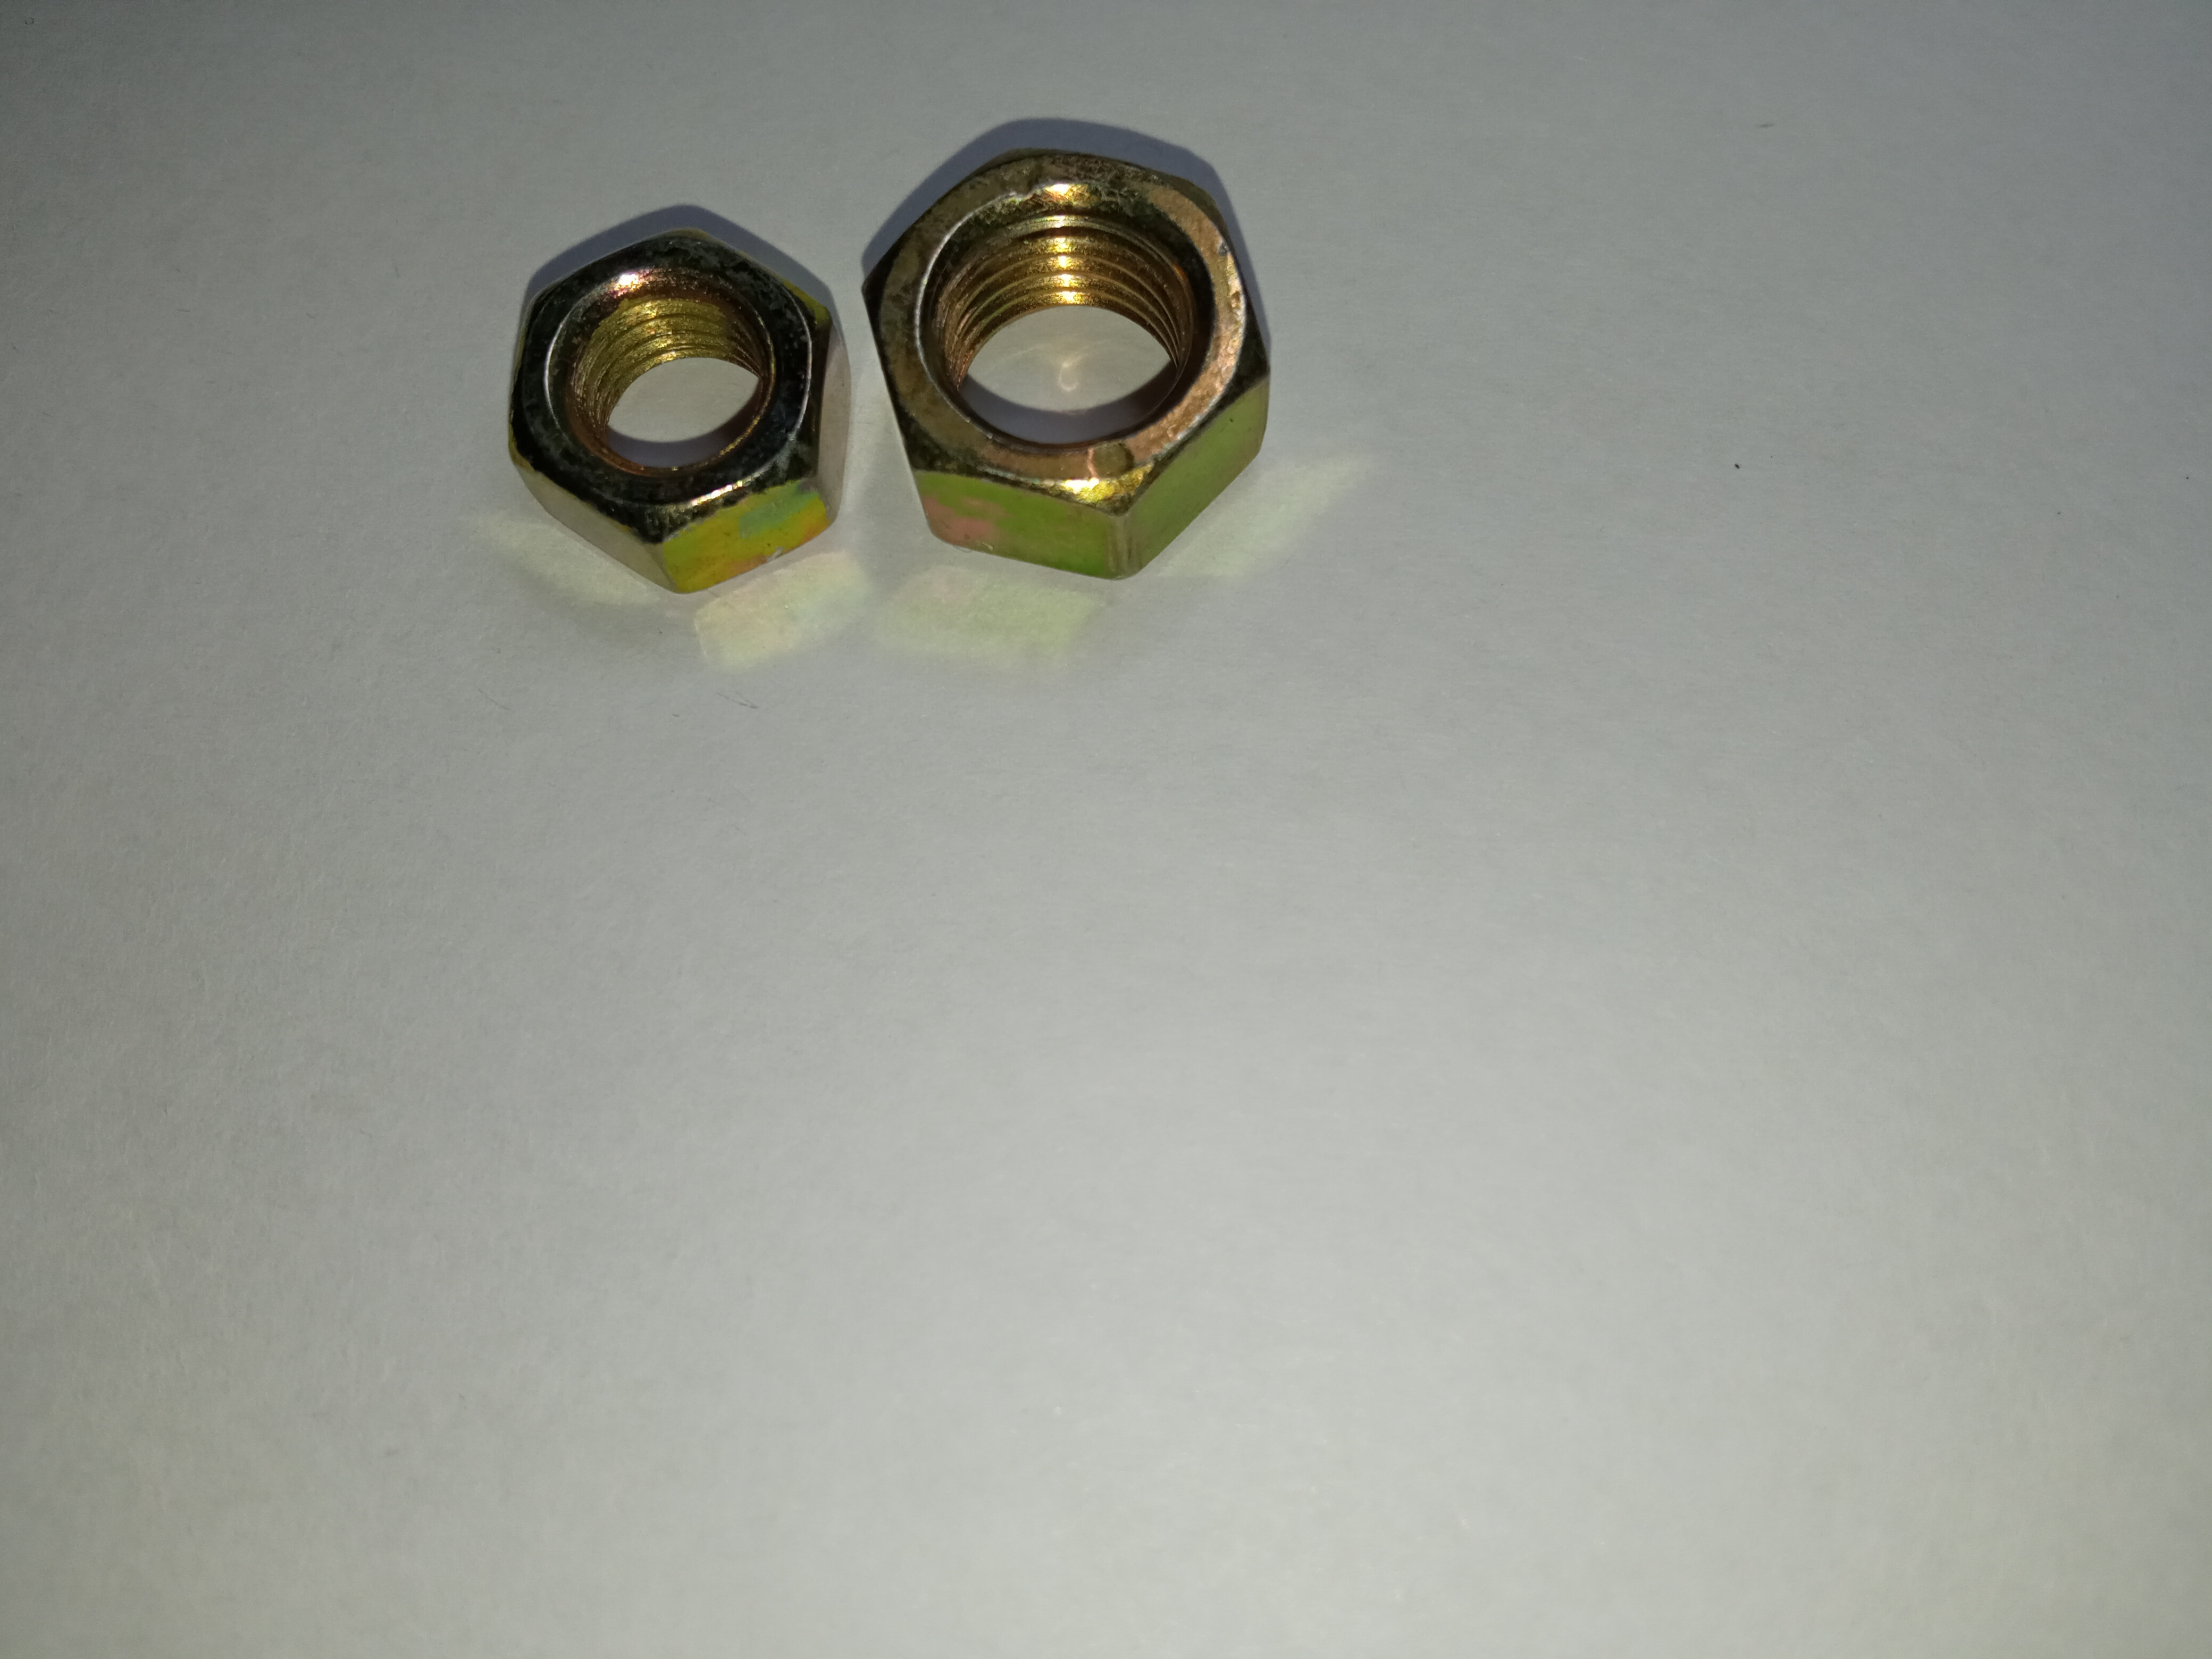m10: (871, 152, 1275, 535)
m8: (514, 223, 833, 580)
